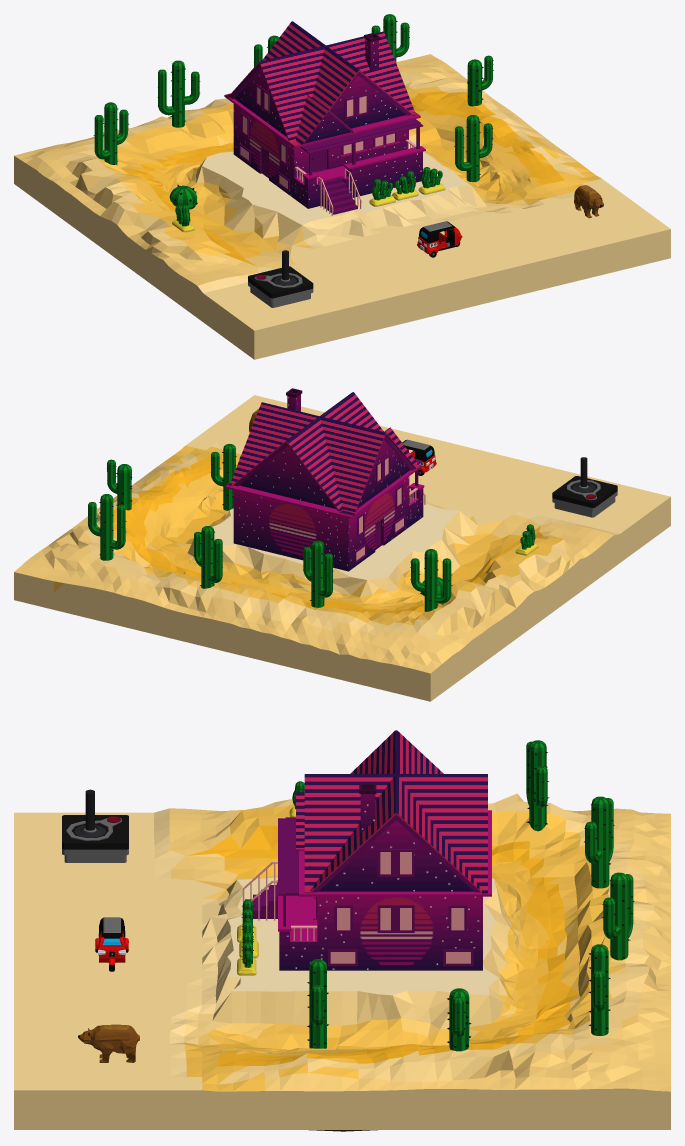
3 views of the same model, one above another, from view 1: azimuth 30°, elevation 25°; view 2: azimuth 150°, elevation 25°; view 3: azimuth 270°, elevation 25° (orthographic). The views are drawn at different scales.
Parts seen in each view (by area): view 1: Cube.001, Cube.156, OBJRANDOM_JOYSTICK, Cylinder.037, Cylinder.044, Cylinder.045, VEHICLES_TUC_TUC, Cylinder.038, Cylinder.042, ANIMAL_OSO, Cylinder.039, Cylinder.041 (+2 smaller); view 2: Cube.001, Cube.156, OBJRANDOM_JOYSTICK, Cylinder.042, Cylinder.045, Cylinder.044, Cylinder.043, Cylinder.037, Cylinder.038, VEHICLES_TUC_TUC; view 3: Cube.001, Cube.156, OBJRANDOM_JOYSTICK, Cylinder.043, Cylinder.044, Cylinder.045, Cylinder.042, Cylinder.037, ANIMAL_OSO, VEHICLES_TUC_TUC, Cylinder.038, Cylinder.041.
Part boxes in pixels (x1,y1,x2,y2): Cube.001: [14, 54, 670, 359]; Cube.156: [224, 21, 425, 215]; OBJRANDOM_JOYSTICK: [248, 250, 313, 307]; Cylinder.037: [454, 115, 493, 182]; Cylinder.044: [157, 60, 200, 127]; Cylinder.045: [93, 102, 129, 164]; VEHICLES_TUC_TUC: [417, 221, 462, 257]; Cylinder.038: [467, 55, 493, 106]; Cylinder.042: [371, 14, 409, 62]; ANIMAL_OSO: [574, 185, 603, 218]; Cylinder.039: [369, 179, 395, 206]; Cylinder.041: [418, 167, 445, 194]; Cube.001: [14, 395, 670, 701]; Cube.156: [225, 388, 425, 571]; OBJRANDOM_JOYSTICK: [552, 457, 617, 517]; Cylinder.042: [88, 494, 126, 560]; Cylinder.045: [410, 549, 452, 611]; Cylinder.044: [303, 540, 333, 607]; Cylinder.043: [193, 526, 222, 588]; Cylinder.037: [211, 444, 240, 510]; Cylinder.038: [107, 459, 131, 510]; VEHICLES_TUC_TUC: [402, 439, 436, 475]; Cube.001: [14, 793, 670, 1129]; Cube.156: [242, 730, 491, 970]; OBJRANDOM_JOYSTICK: [62, 789, 128, 862]; Cylinder.043: [602, 872, 634, 960]; Cylinder.044: [584, 796, 614, 888]; Cylinder.045: [526, 740, 549, 831]; Cylinder.042: [588, 944, 610, 1035]; Cylinder.037: [307, 959, 328, 1048]; ANIMAL_OSO: [78, 1024, 139, 1062]; VEHICLES_TUC_TUC: [95, 917, 128, 971]; Cylinder.038: [447, 988, 471, 1051]; Cylinder.041: [237, 932, 256, 975].
Size of the model in its own units: 4002 by 1693 by 4001.
38 materials, 4 textured.
